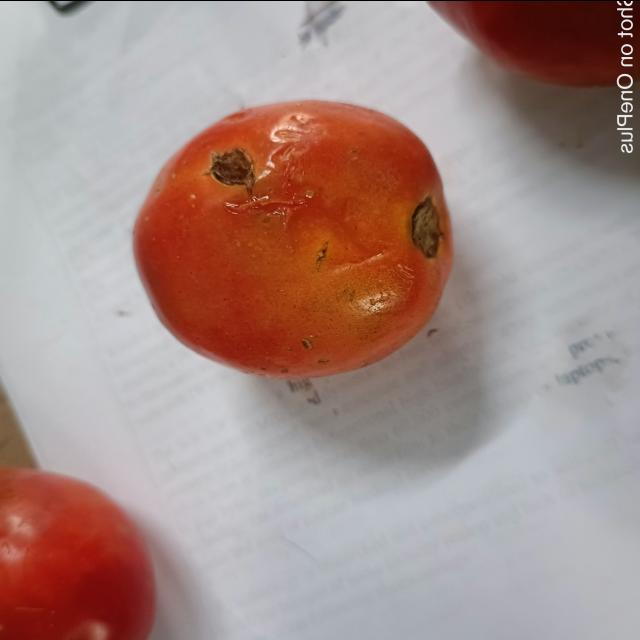Botrytis: (220, 194, 310, 216), (206, 147, 252, 186)
